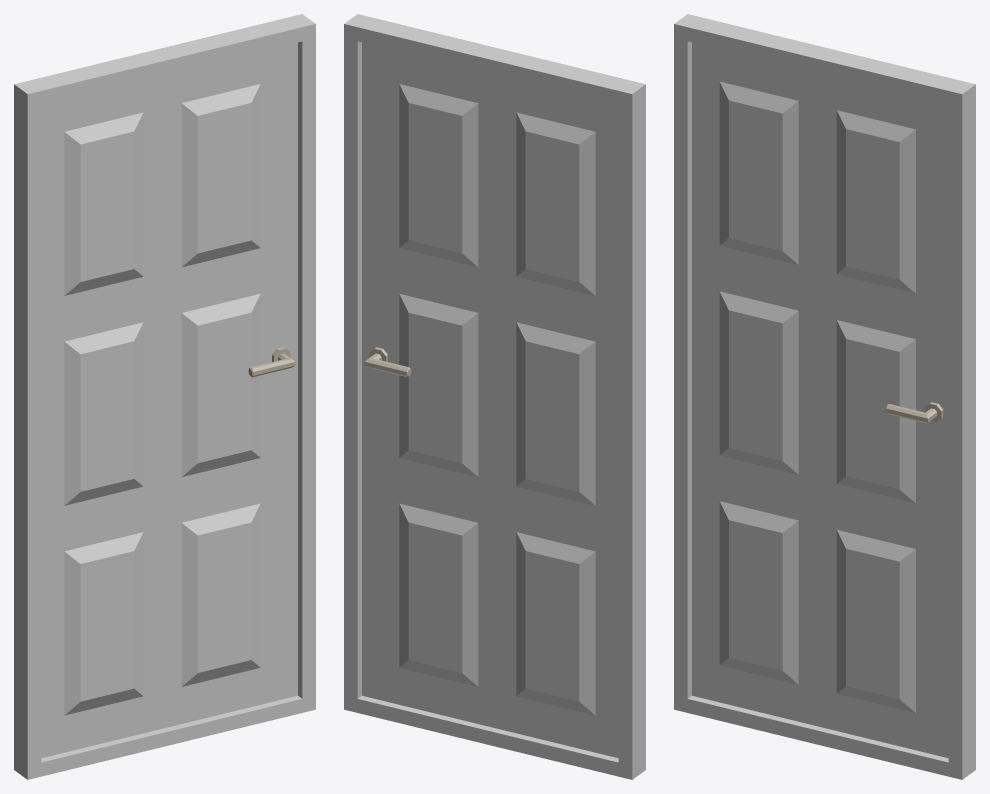
Rendered from Mesh_Door_A01.fbx.
The picture shows the model from 3 angles, left to right: view 1: azimuth 30°, elevation 25°; view 2: azimuth 150°, elevation 25°; view 3: azimuth 330°, elevation 25°; orthographic projection.
Parts seen in each view (by area): view 1: Mesh_Door_A01; view 2: Mesh_Door_A01; view 3: Mesh_Door_A01.
Boxes of the visible parts, <box> form: Mesh_Door_A01: <box>14,14,315,779</box>; Mesh_Door_A01: <box>344,14,645,779</box>; Mesh_Door_A01: <box>674,14,975,779</box>.
Bounding box in the file's own units: 0.9 × 2.05 × 0.1482.
